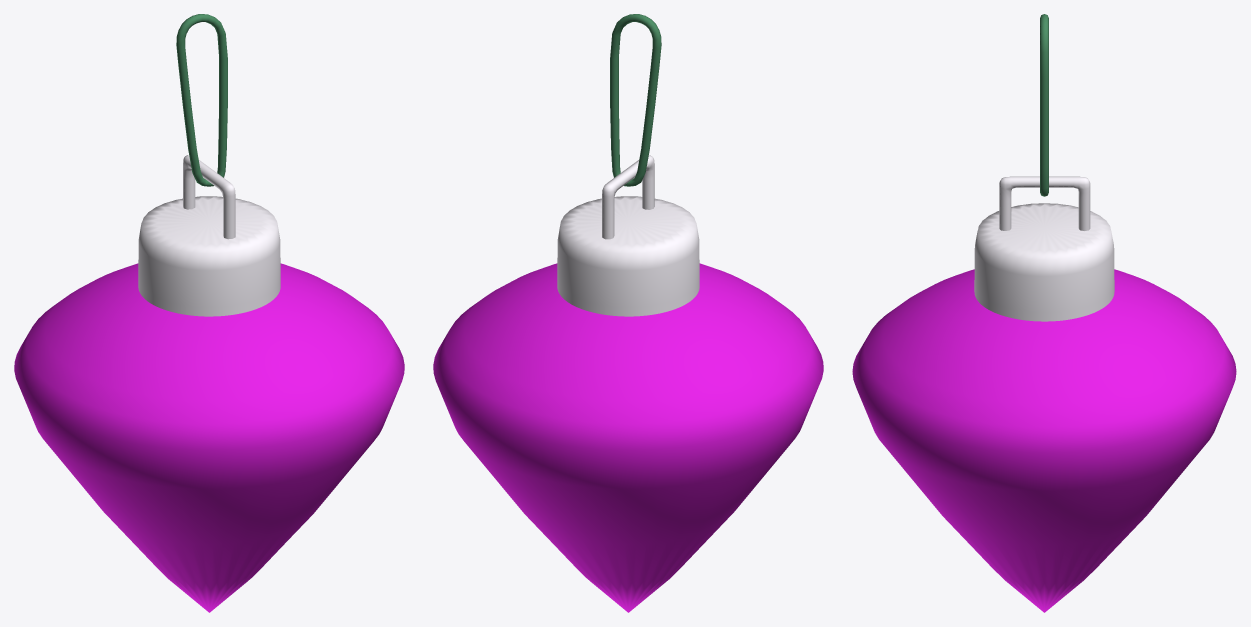
Rendered from ornaments1.fbx.
The picture shows the model from 3 angles, left to right: view 1: azimuth 30°, elevation 25°; view 2: azimuth 150°, elevation 25°; view 3: azimuth 270°, elevation 25°; orthographic projection.
Visible parts, largest first — view 1: Sphere.005; view 2: Sphere.005; view 3: Sphere.005.
Part boxes in pixels (x1,y1,x2,y2): Sphere.005: (14,14,404,612); Sphere.005: (433,14,823,612); Sphere.005: (852,14,1236,612).
Bounding box in the file's own units: 14.89 × 25.27 × 14.89.
